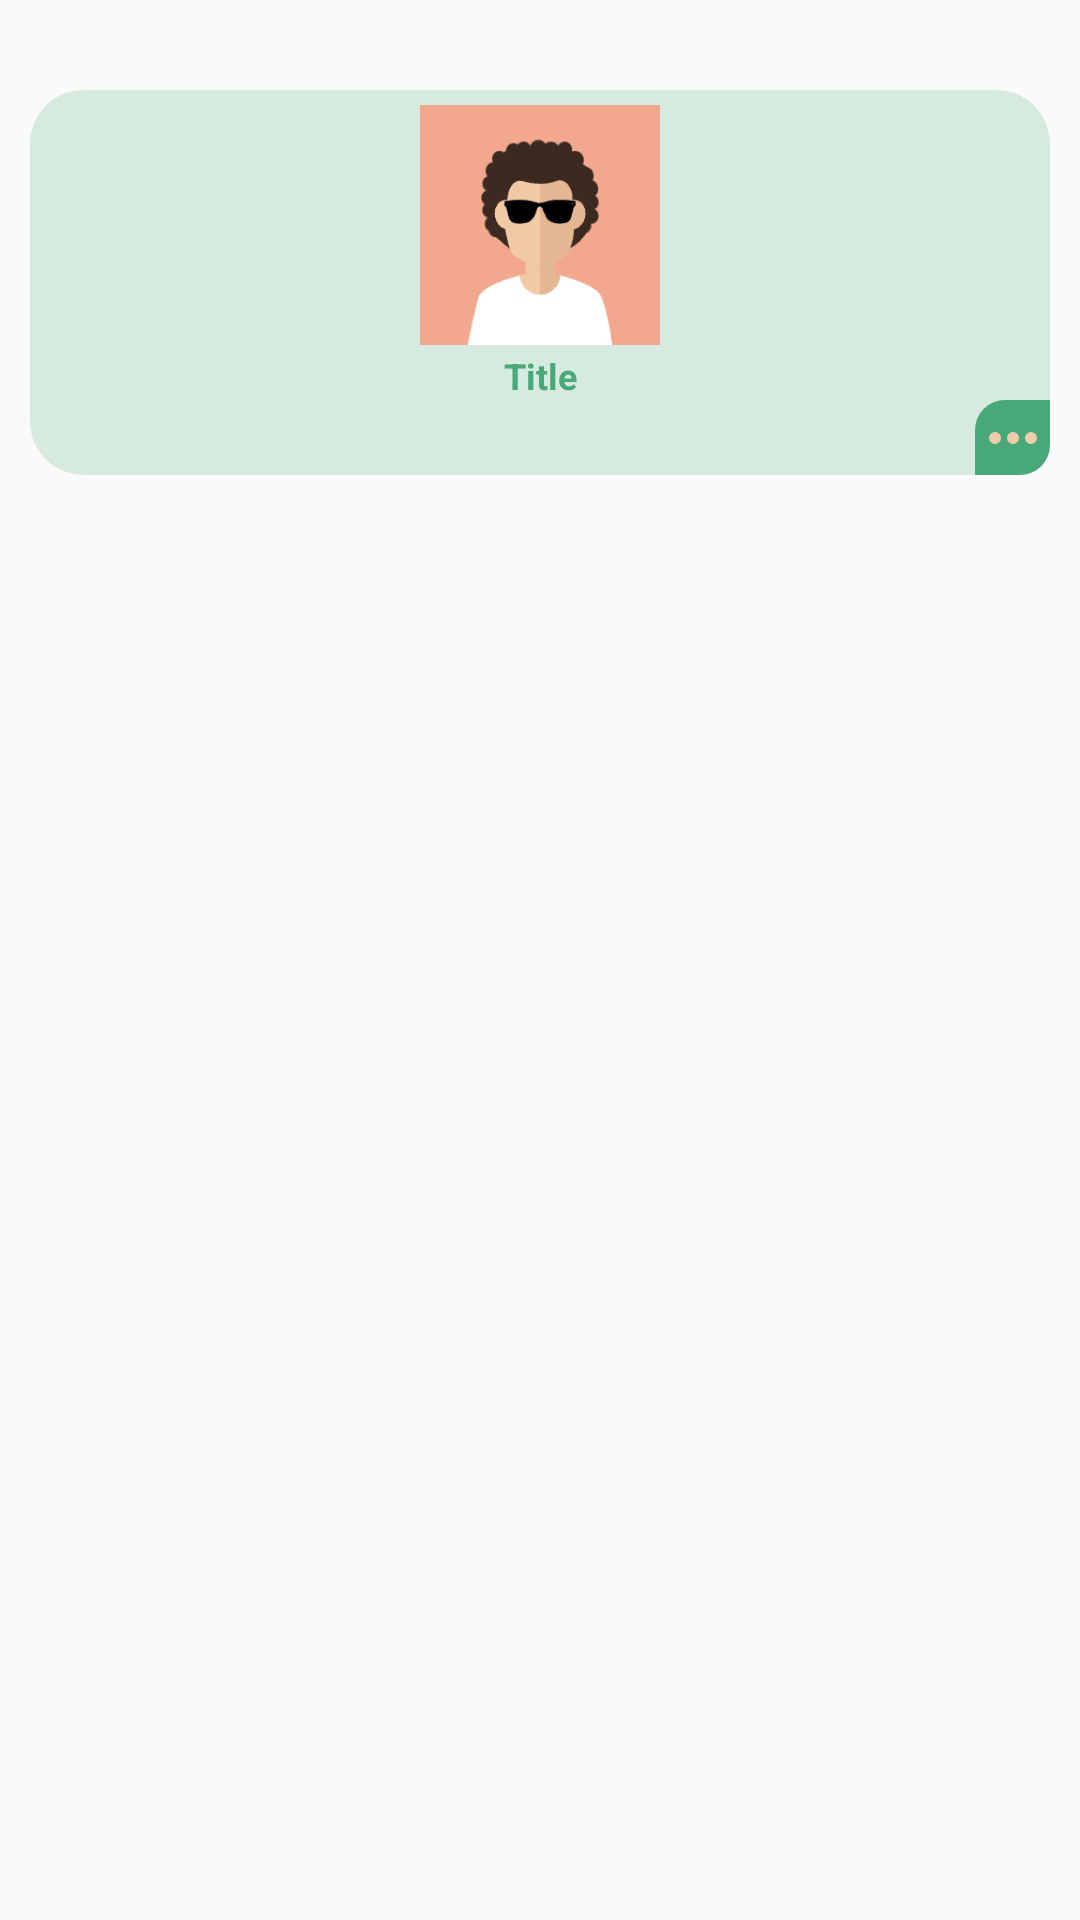

Point at icon controls on the screen. Image size 1080x1920, points as [x,y].
dots: [1013,438]
